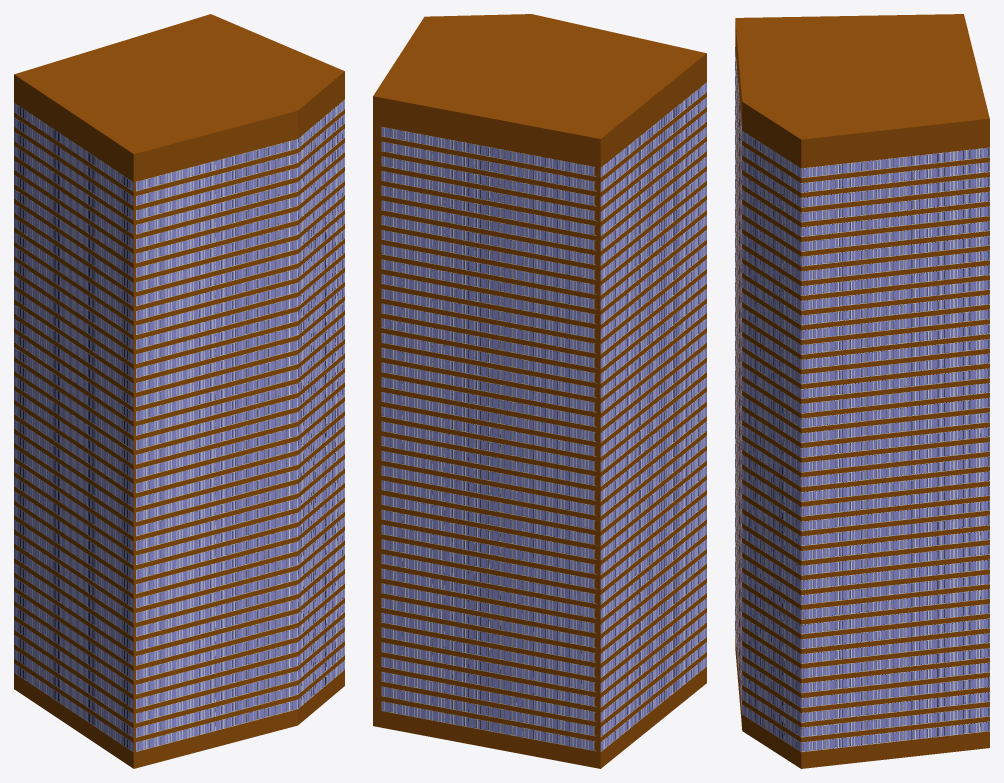
File: 90KensingtonBoulevard.fbx
The picture shows the model from 3 angles, left to right: view 1: azimuth 30°, elevation 25°; view 2: azimuth 150°, elevation 25°; view 3: azimuth 270°, elevation 25°; orthographic projection. The views are drawn at different scales.
Parts seen in each view (by area): view 1: 90KensingtonBoulevard; view 2: 90KensingtonBoulevard; view 3: 90KensingtonBoulevard.
Part boxes in pixels (<box>): 90KensingtonBoulevard: <box>14,14,344,768</box>; 90KensingtonBoulevard: <box>373,14,706,768</box>; 90KensingtonBoulevard: <box>735,14,989,768</box>.
Size of the model in its own units: 5601 by 13088 by 4800.
